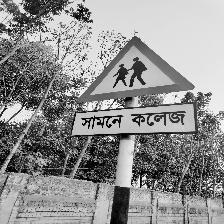College-in-front: (72, 23, 223, 157)
